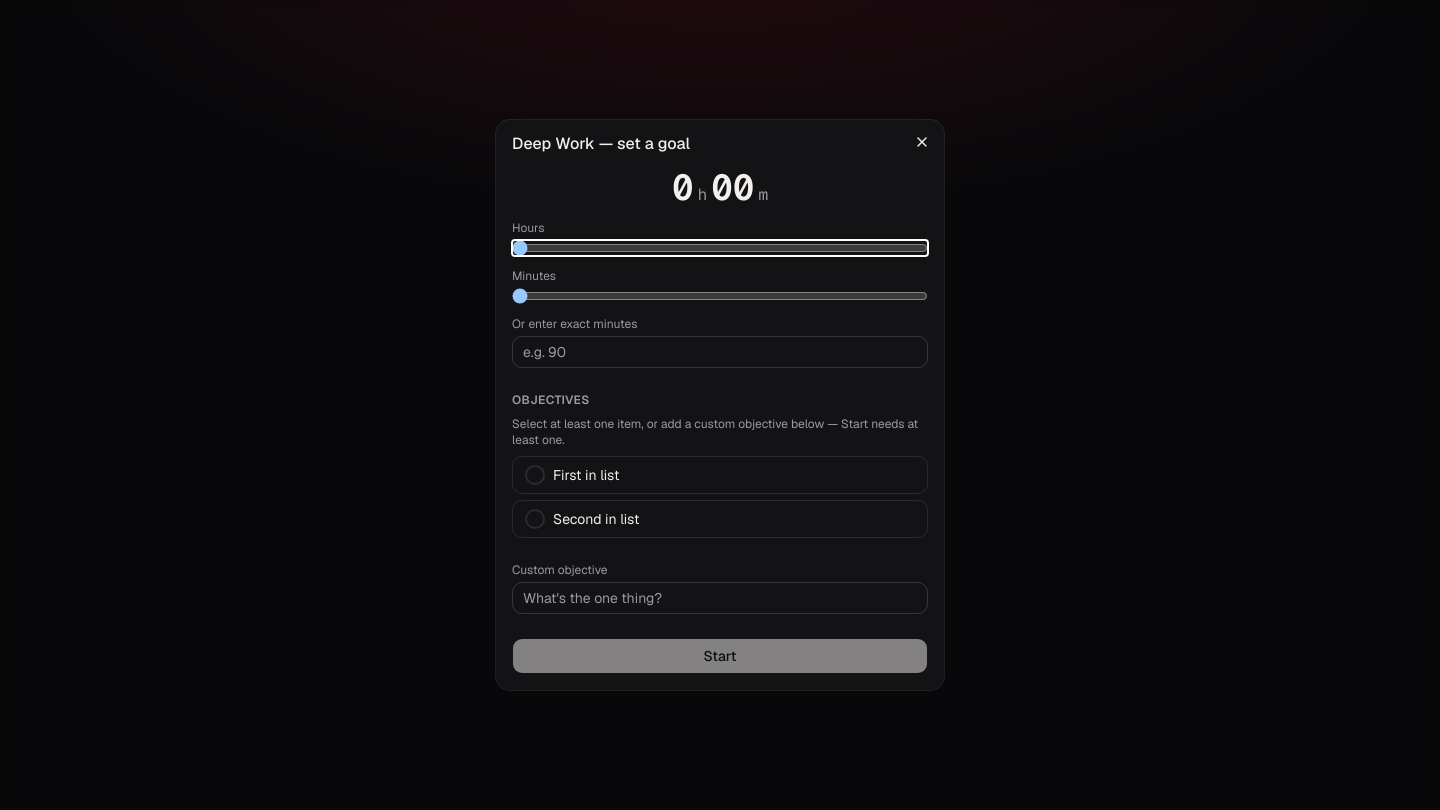
it: SessionSetupDialog › Deep Work objectives › numbers items in the order they're selected, not list order
Expected: the text "First in list" is shown, [553,466,620,484]
# Select the second-listed item first.
Click the button "Second in list". click: (596, 519)
box: [512,500,928,538]
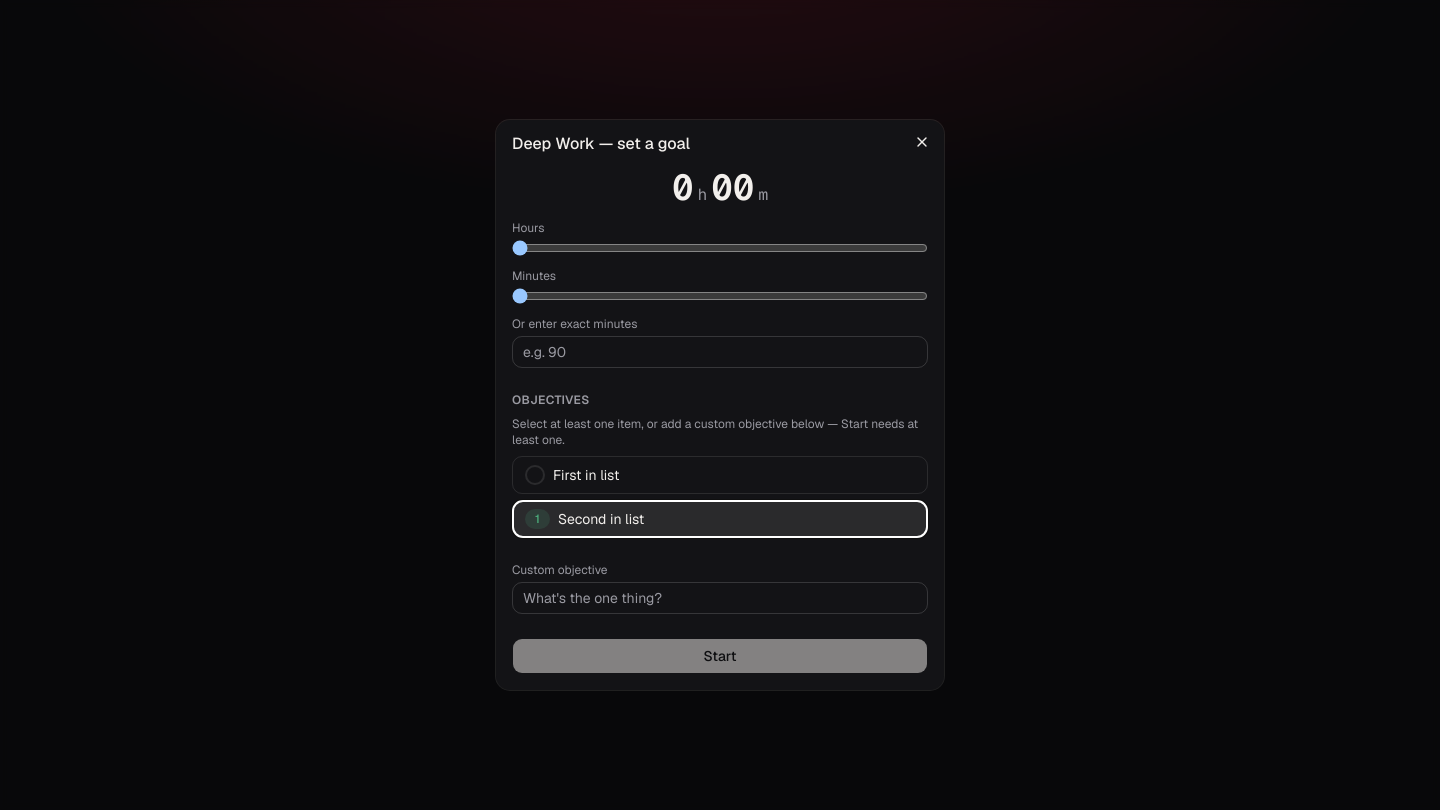
Click the button "First in list". click: (586, 475)
box: [512,456,928,494]
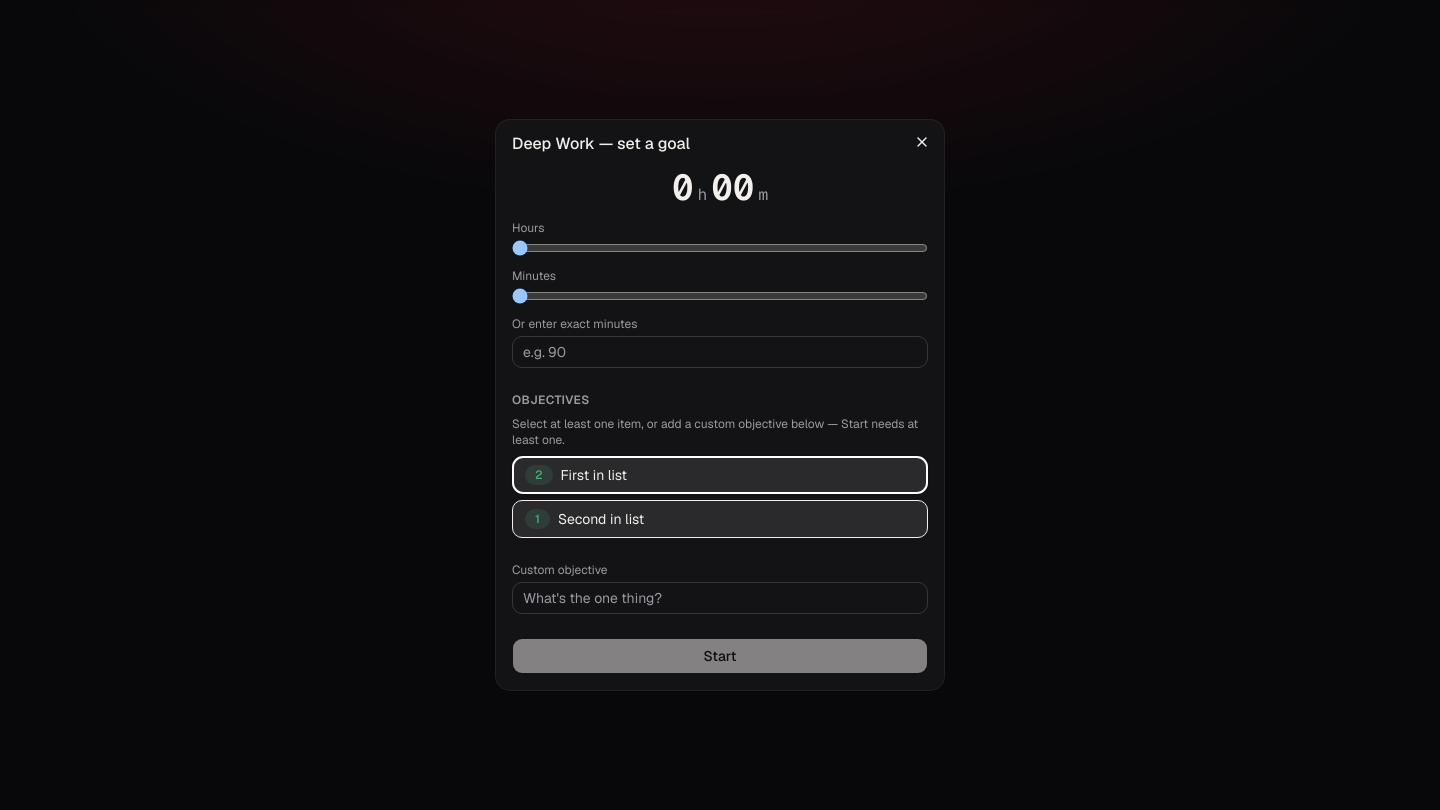
Expected: the button "1 Second in list" is shown, [512,500,928,538]
Expected: the button "2 First in list" is shown, [512,456,928,494]
